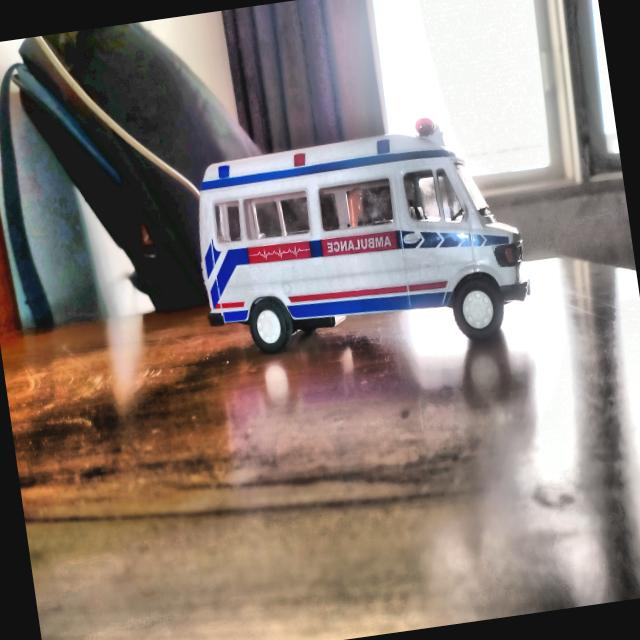Ambulance: (187, 118, 536, 377)
